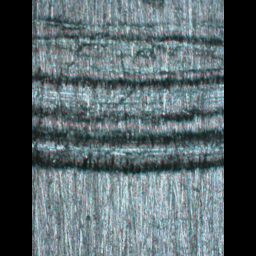d: (31, 13, 223, 184)
